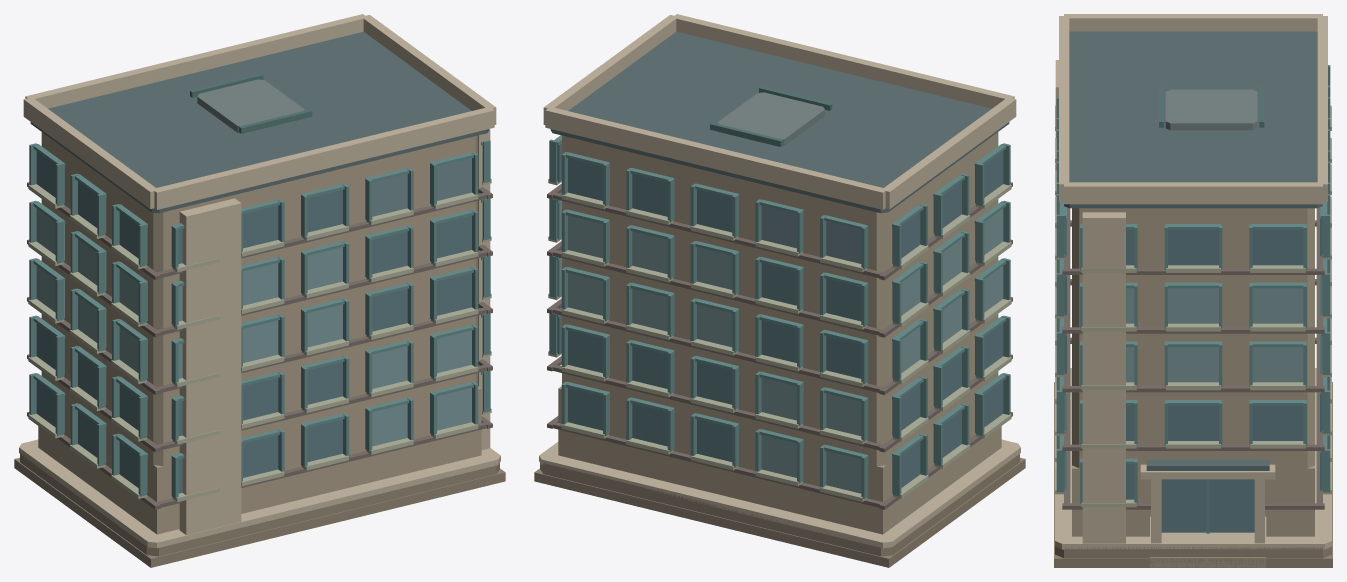
The picture shows the model from 3 angles, left to right: view 1: azimuth 30°, elevation 25°; view 2: azimuth 150°, elevation 25°; view 3: azimuth 270°, elevation 25°; orthographic projection. The views are drawn at different scales.
Parts seen in each view (by area): view 1: form, relief, glaze, glowing; view 2: form, relief, glaze, glowing; view 3: form, glaze, relief, glowing.
Part boxes in pixels (left/top/right/bottom): form: left=14, top=14, right=505, bottom=567; relief: left=28, top=132, right=491, bottom=501; glaze: left=36, top=151, right=471, bottom=493; glowing: left=119, top=247, right=407, bottom=446; form: left=534, top=14, right=1025, bottom=567; relief: left=548, top=132, right=1011, bottom=501; glaze: left=557, top=143, right=1003, bottom=493; glowing: left=557, top=200, right=1003, bottom=477; form: left=1054, top=14, right=1332, bottom=567; glaze: left=1064, top=207, right=1322, bottom=532; relief: left=1055, top=65, right=1331, bottom=533; glowing: left=1252, top=288, right=1303, bottom=323.
Bounding box in the file's own units: 12 × 12 × 8.
